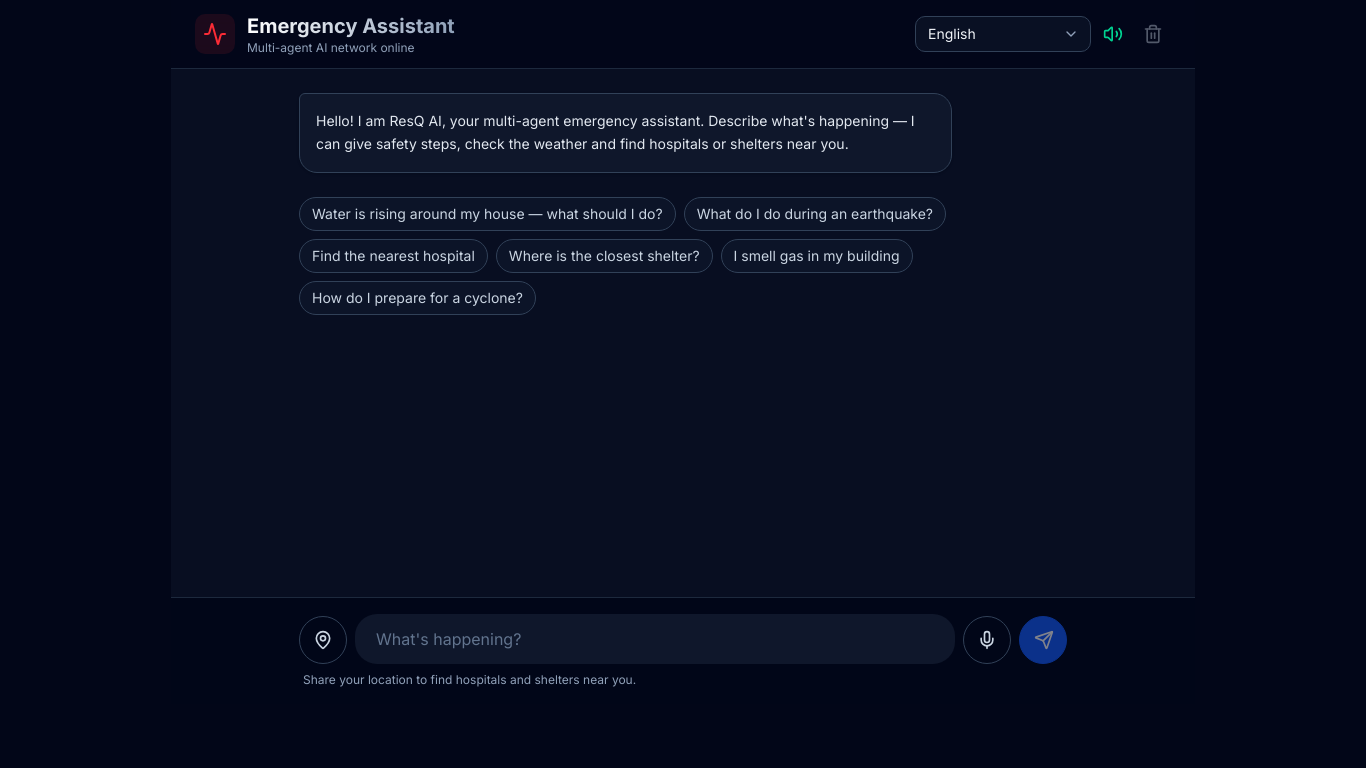
ChatView › does not store the transcript again when an answer lands after sign-out (review round 5)
In the text box named "Describe your situation": [655, 639] box [355,614,955,664], type "PRIVATE where can I go tonight?"
Then press Enter
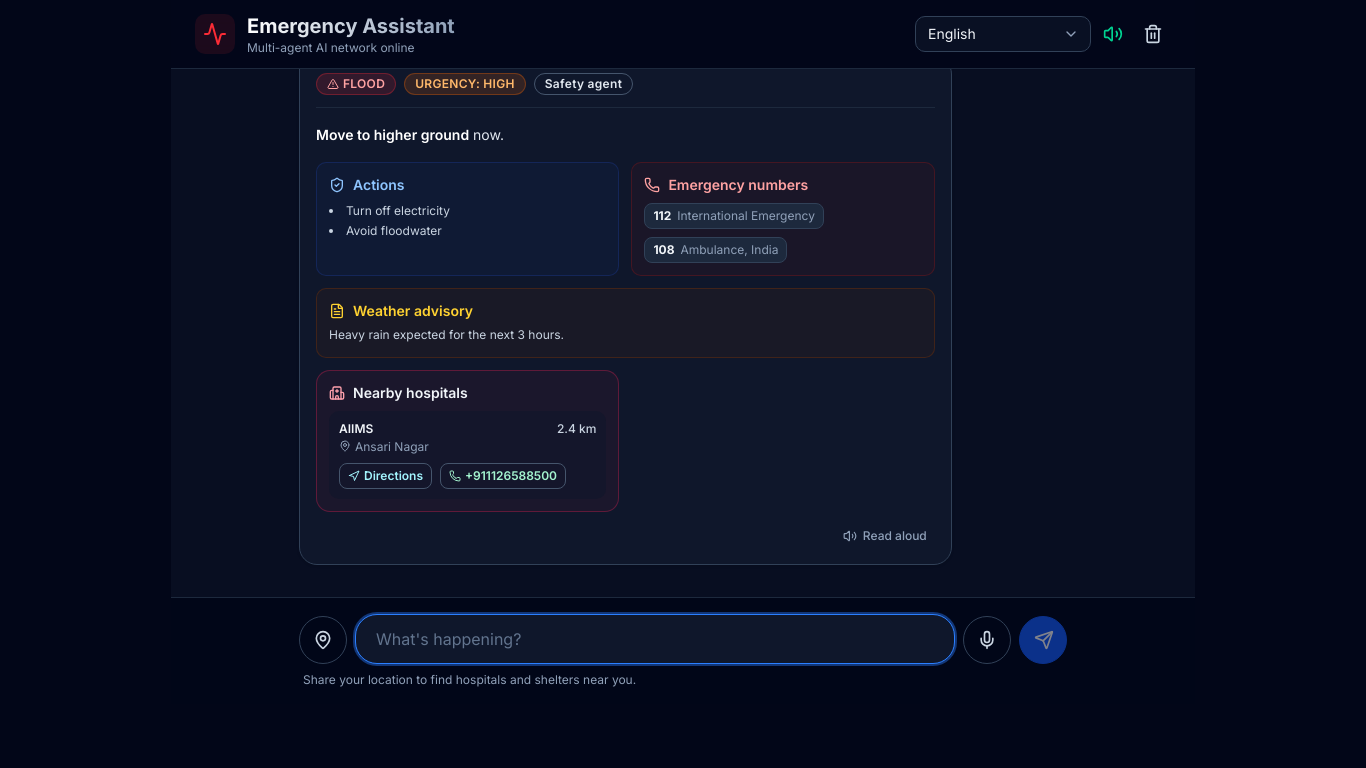
Now the text "Move to higher ground" is shown, box [316,126,469,142]
